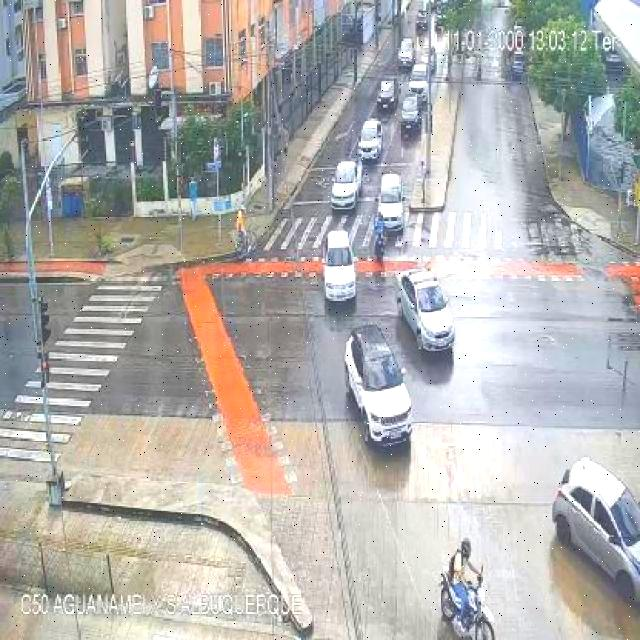Car: (545, 455, 639, 603), (335, 320, 424, 458), (396, 266, 455, 352), (320, 224, 361, 308), (375, 169, 412, 230), (326, 160, 362, 214), (352, 117, 386, 162), (396, 92, 425, 132), (371, 78, 400, 114), (405, 64, 433, 100)
Cycle: (418, 535, 508, 639), (224, 206, 262, 259), (367, 208, 391, 267)
